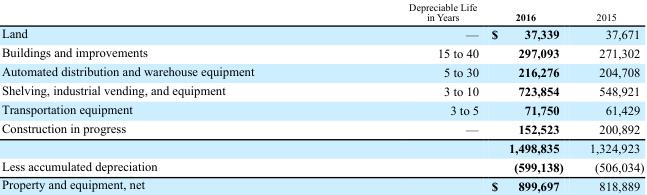table: (0, 0, 643, 192)
table column: (0, 0, 330, 192), (330, 0, 484, 192), (484, 0, 575, 192), (575, 0, 643, 192)
table column header: (0, 0, 643, 23)
table row: (0, 0, 643, 23), (0, 118, 643, 138), (0, 23, 643, 42), (0, 42, 643, 61), (0, 61, 643, 80), (0, 80, 643, 99), (0, 99, 643, 118), (0, 156, 643, 175), (0, 138, 643, 156), (0, 175, 643, 192)
